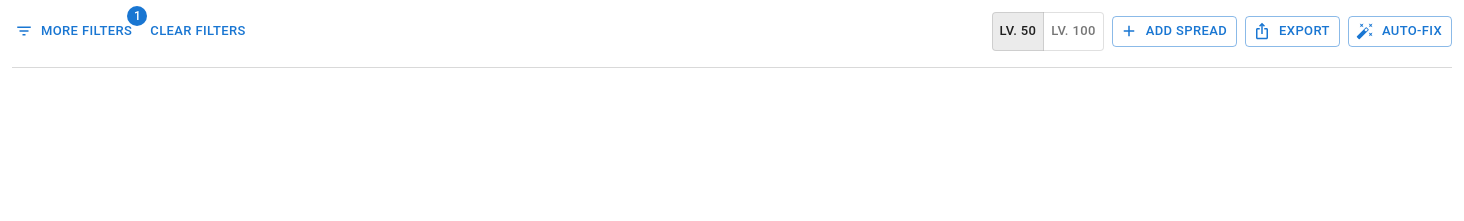
Test: Spread filters › highlights the first matching filter option for Enter and allows clearing team type
The image size is (1464, 221).
Click the button "More Filters" at (75, 31), box [12,16,137,47]
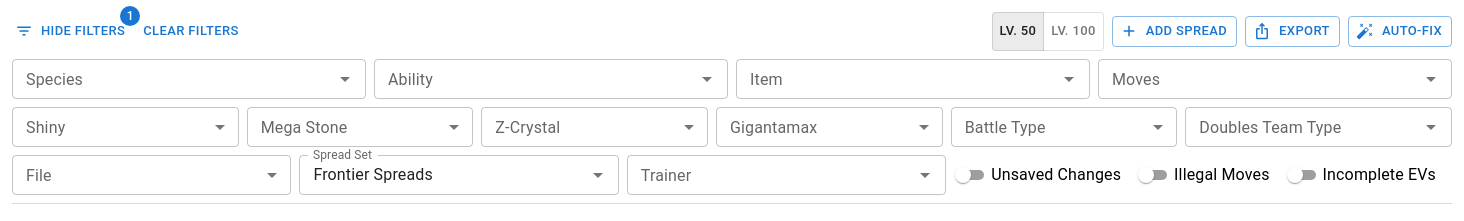
Type "Sun" into the dropdown labelled "Doubles Team Type" at (1302, 127), box [1191,113,1413,141]
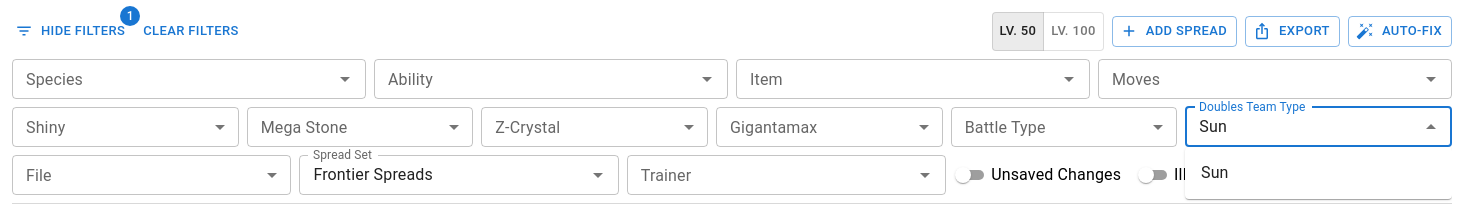
Expected: the option "Sun" is shown, [1201,163,1229,182]
Press Enter
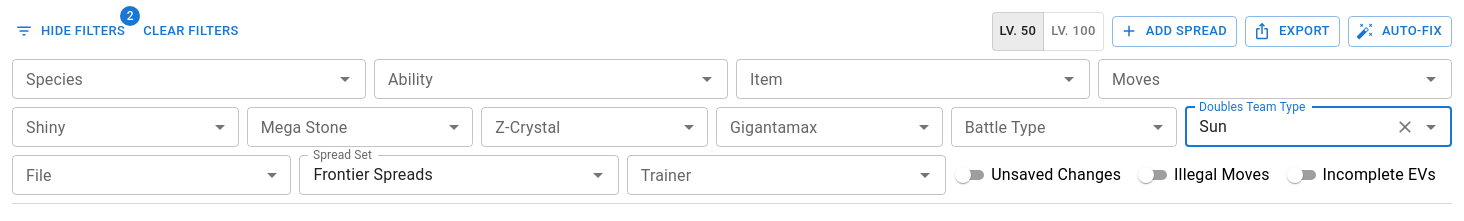
Click the button named "Clear" at (1405, 127), box [1391,113,1419,141]
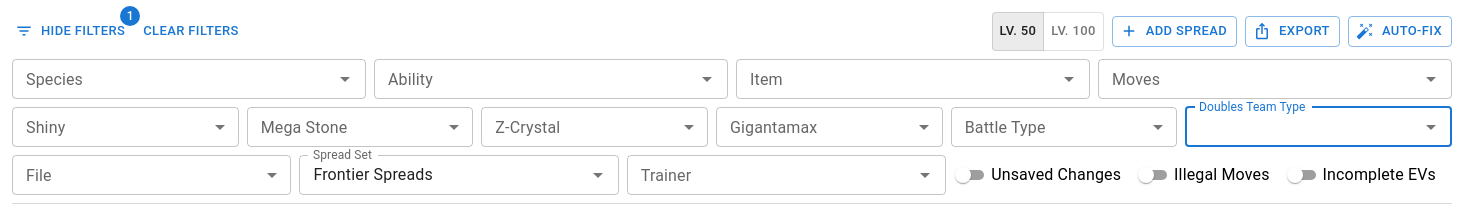
Expected: the dropdown labelled "Doubles Team Type" is empty, [1191,113,1413,141]
Type "Charizard" into the dropdown labelled "Species" at (172, 79), box [18,65,327,93]
Then press Enter
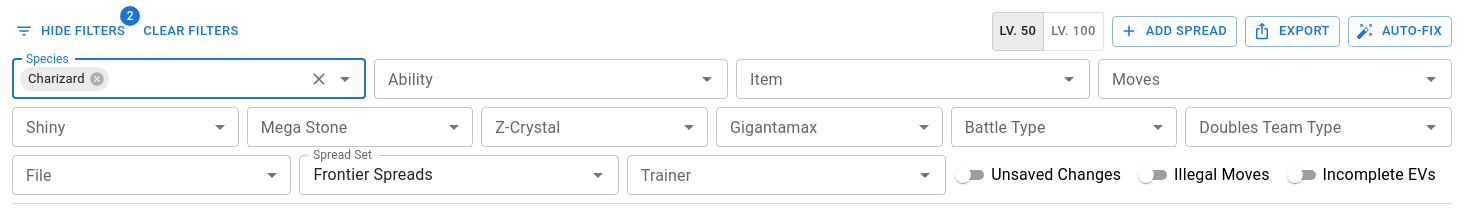
Expected: the text "Charizard" is shown, [28,71,85,86]
